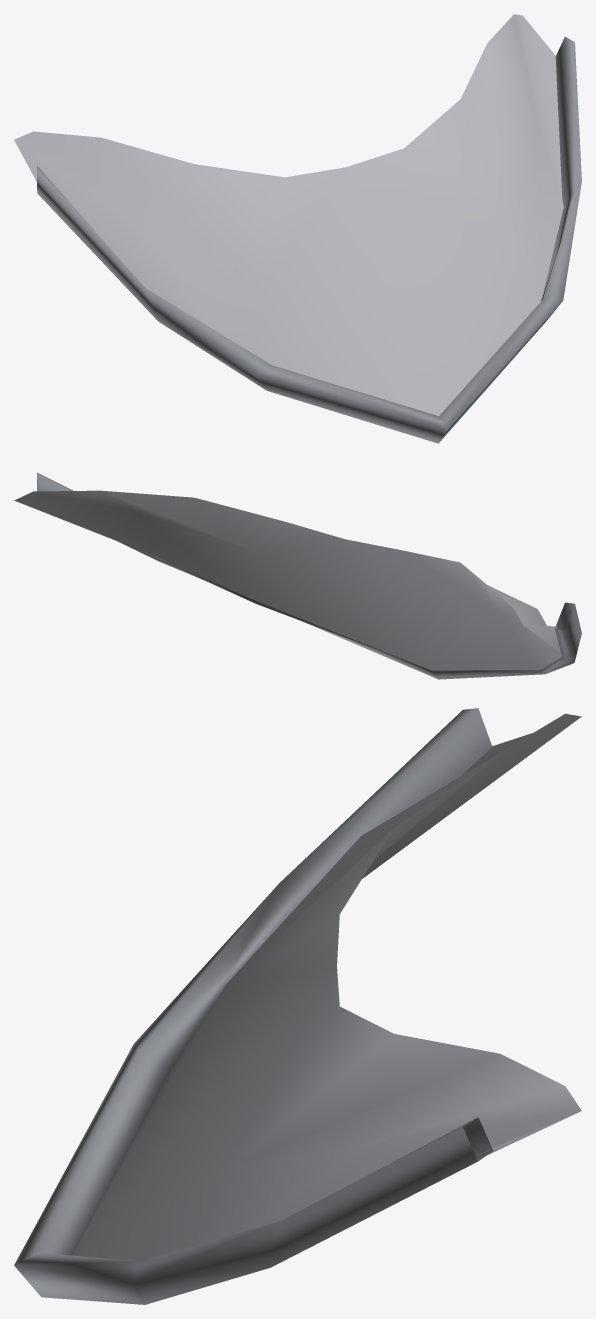
File: gorget.glb
3 views of the same model, one above another, from view 1: azimuth 30°, elevation 25°; view 2: azimuth 150°, elevation 25°; view 3: azimuth 270°, elevation 25° (orthographic). The views are drawn at different scales.
Parts seen in each view (by area): view 1: Gorget; view 2: Gorget; view 3: Gorget.
Part boxes in pixels (<box>): Gorget: <box>14,14,581,443</box>; Gorget: <box>14,472,581,679</box>; Gorget: <box>14,708,581,1304</box>.
Size of the model in its own units: 4.33 by 1.92 by 2.49.
Materials: 1 (1 with a texture image).
